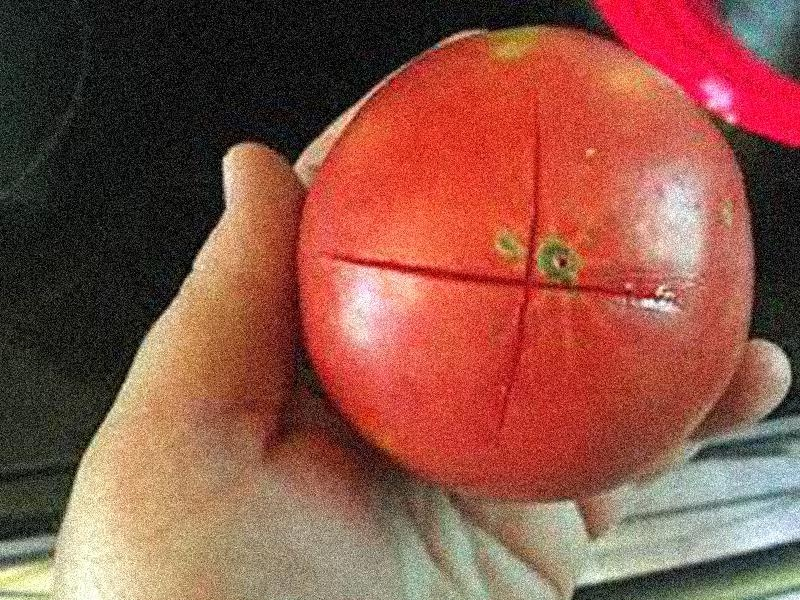Tomato: (295, 31, 757, 504)
